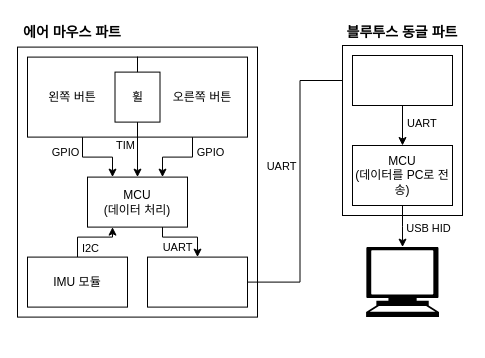
Image size: 485x358. Some labels were removed from this diagram. The shapes that lost their labels are listed below. From the top down, each one's centre as x and y in pixels, then its label:
(x=402, y=80): 블루투스 모듈 (슬레이브)
(x=197, y=281): 블루투스 모듈 (마스터)
(x=402, y=282): PC
